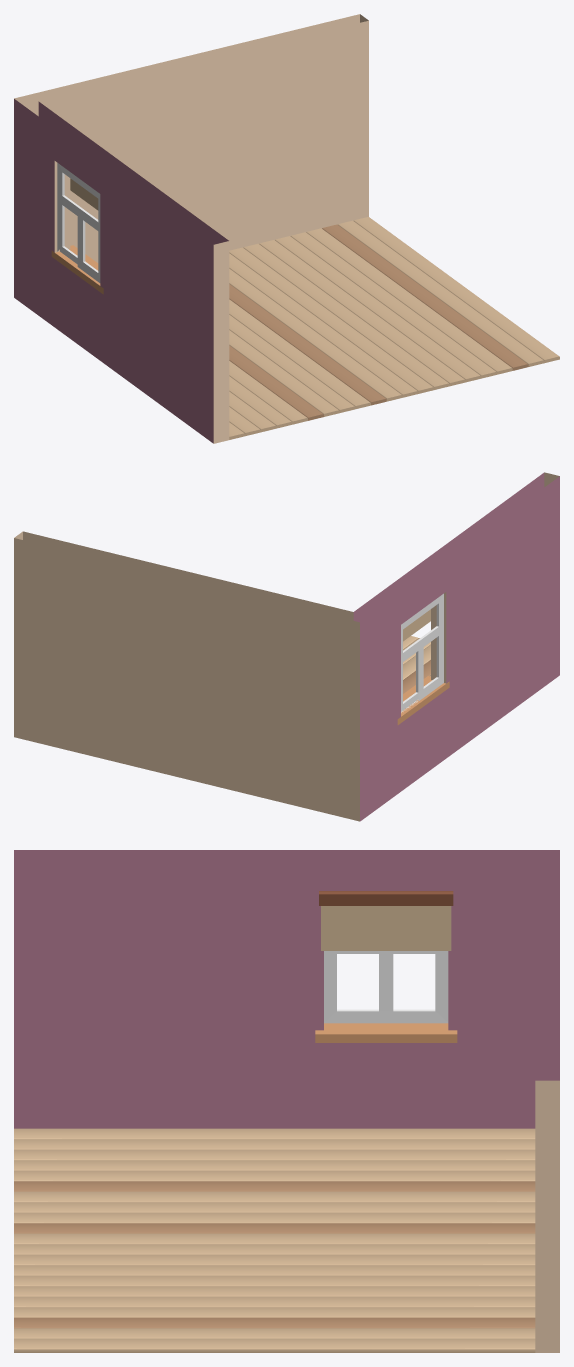
File: Room 3.fbx
3 views of the same model, one above another, from view 1: azimuth 30°, elevation 25°; view 2: azimuth 150°, elevation 25°; view 3: azimuth 270°, elevation 25° (orthographic). The views are drawn at different scales.
Visible parts, largest first — view 1: Cube.049, Deck.004, Cube.066; view 2: Cube.049, Cube.066, Deck.004; view 3: Cube.049, Deck.004, Cube.066, Cube.068, Cube.067.
Boxes of the visible parts, x1,y1,x2,y2 form: Cube.049: [14, 14, 368, 443]; Deck.004: [229, 217, 559, 439]; Cube.066: [51, 163, 103, 294]; Cube.049: [14, 472, 559, 821]; Cube.066: [397, 593, 449, 724]; Deck.004: [403, 636, 430, 693]; Cube.049: [14, 850, 559, 1352]; Deck.004: [14, 1128, 535, 1352]; Cube.066: [315, 951, 457, 1042]; Cube.068: [321, 906, 451, 950]; Cube.067: [319, 891, 453, 905].
Bounding box in the file's own units: 200 × 110 × 200.
